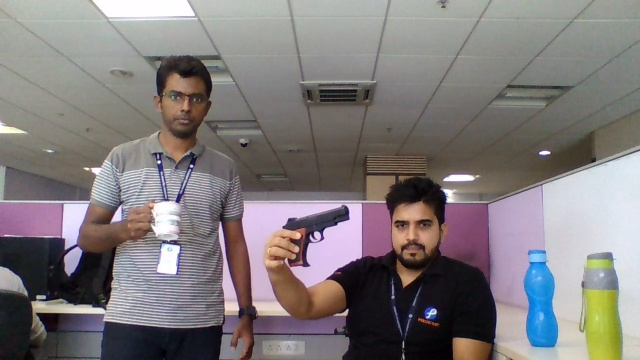gun: (302, 205, 350, 268)
